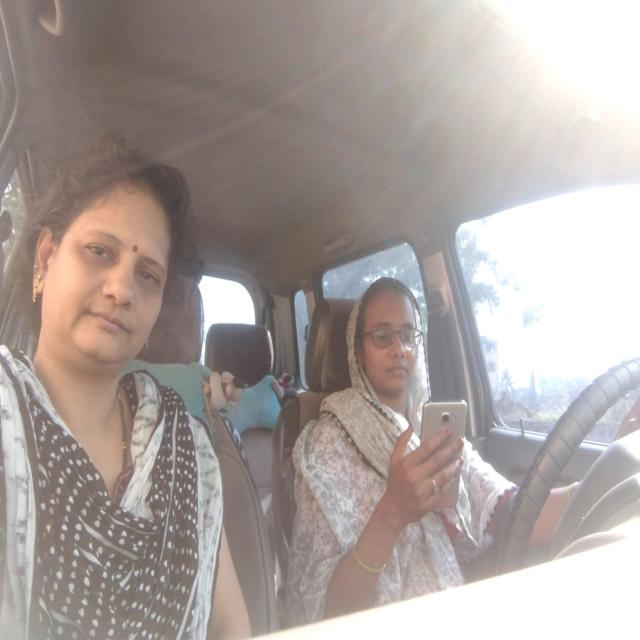mobile: (414, 387, 478, 528)
person: (29, 131, 198, 400), (343, 270, 441, 400)
